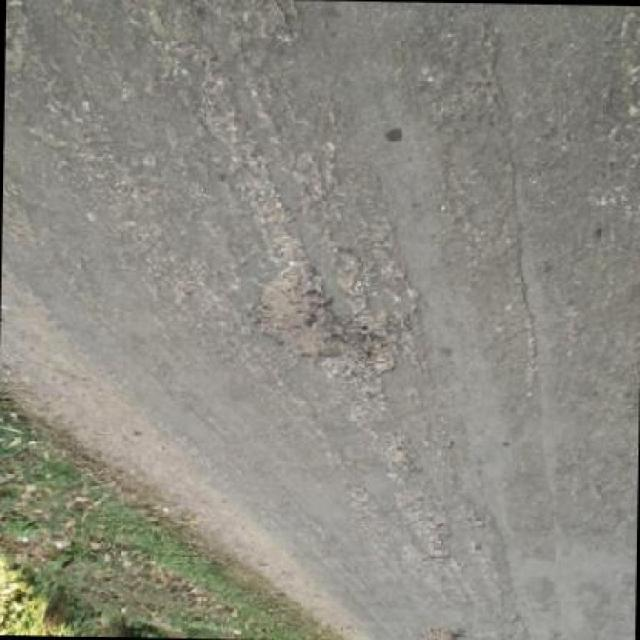pothole1: (252, 260, 352, 363)
